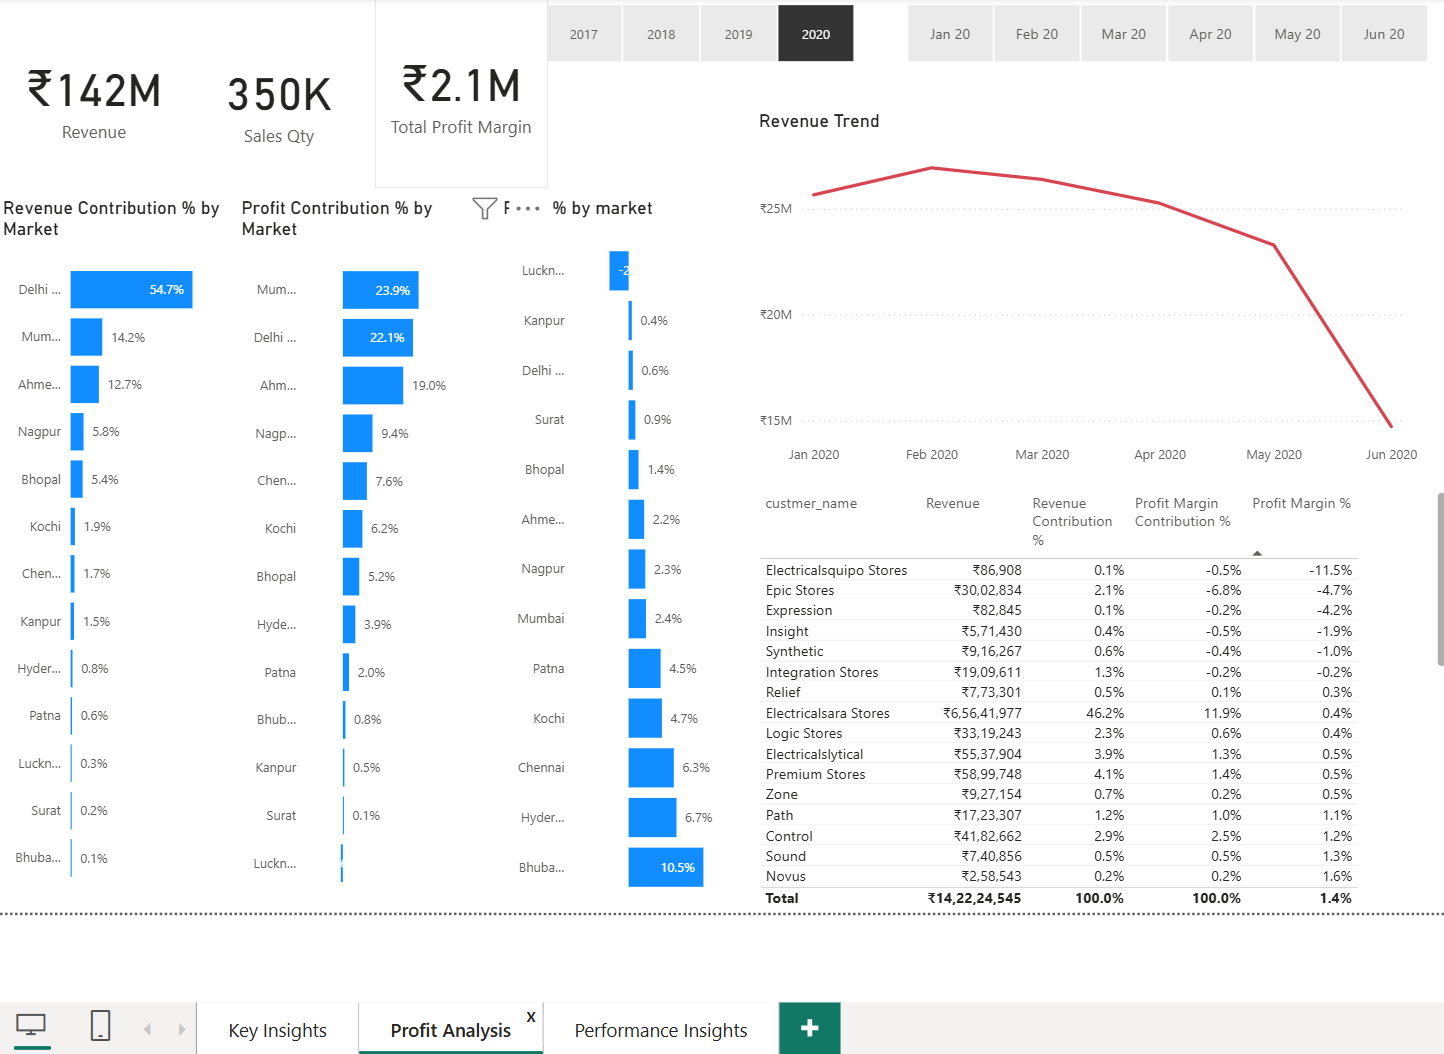

Layout of this report page (visuals, bound fields, positions):
{"tool":"powerbi","page":{"name":"Profit Analysis","canvas":[1350,850],"ordinal":1},"visuals":[{"type":"card","fields":{"Values":["BaseMeasures (2).Revenue"]},"box":[0,0,179.6,184.8],"z":0},{"type":"card","fields":{"Values":["BaseMeasures (2).Sales Qty"]},"box":[179.6,0,164.1,193],"z":1000},{"type":"barChart","title":"Profit % by market","fields":{"Y":["BaseMeasures (2).Profit Margin %"],"Category":["sales markets.markets_name"]},"box":[464.5,184.8,230.2,664.8],"z":2000},{"type":"barChart","title":"Profit Contribution % by Market","fields":{"Y":["BaseMeasures (2).Profit Margin Contribution %"],"Category":["sales markets.markets_name"]},"box":[221.9,185.8,208.5,659.6],"z":3000},{"type":"slicer","fields":{"Values":["sales date.year"]},"box":[483.2,0,335.5,66.5],"z":4000},{"type":"slicer","fields":{"Values":["sales date.cy_date"]},"box":[818.6,0,531.7,66.5],"z":5000},{"type":"tableEx","title":"Top 5 Customers","fields":{"Values":["sales customers.custmer_name","BaseMeasures (2).Revenue","BaseMeasures (2).Revenue Contribution %","BaseMeasures (2).Profit Margin Contribution %","BaseMeasures (2).Profit Margin %"]},"box":[701.9,454.2,648.3,395.4],"z":6000},{"type":"lineChart","title":"Revenue Trend","fields":{"Y":["BaseMeasures (2).Revenue"],"Category":["sales date.cy_date"]},"box":[701.9,104.3,621.4,338.6],"z":7000},{"type":"card","fields":{"Values":["BaseMeasures (2).Total Profit Margin"]},"box":[349.9,0,161,176.5],"z":8000},{"type":"barChart","title":"Revenue Contribution % by Market","fields":{"Y":["BaseMeasures (2).Revenue Contribution %"],"Category":["sales markets.markets_name"]},"box":[0,185.8,219.9,654.5],"z":9000}]}

Visuals, with their boxes on the page's 1350x850 design canvas (x1, y1, x2, y2). These are canvas units, not pixel positions in the 1444x1054 screenshot, which may show the page scaled, cropped or inside an application window:
card - BaseMeasures (2).Revenue: (0,0,180,185)
card - BaseMeasures (2).Sales Qty: (180,0,344,193)
"Profit % by market" barChart: (464,185,695,850)
"Profit Contribution % by Market" barChart: (222,186,430,845)
slicer - sales date.year: (483,0,819,66)
slicer - sales date.cy_date: (819,0,1350,66)
"Top 5 Customers" tableEx: (702,454,1350,850)
"Revenue Trend" lineChart: (702,104,1323,443)
card - BaseMeasures (2).Total Profit Margin: (350,0,511,176)
"Revenue Contribution % by Market" barChart: (0,186,220,840)
